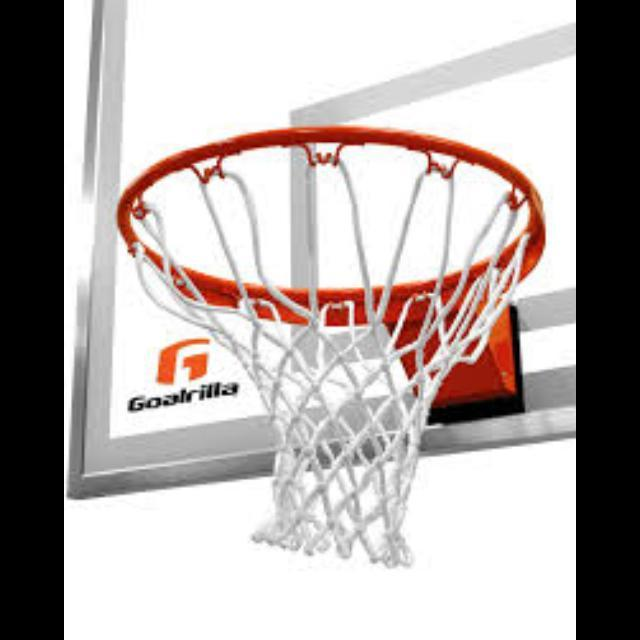rim: (116, 126, 546, 570)
